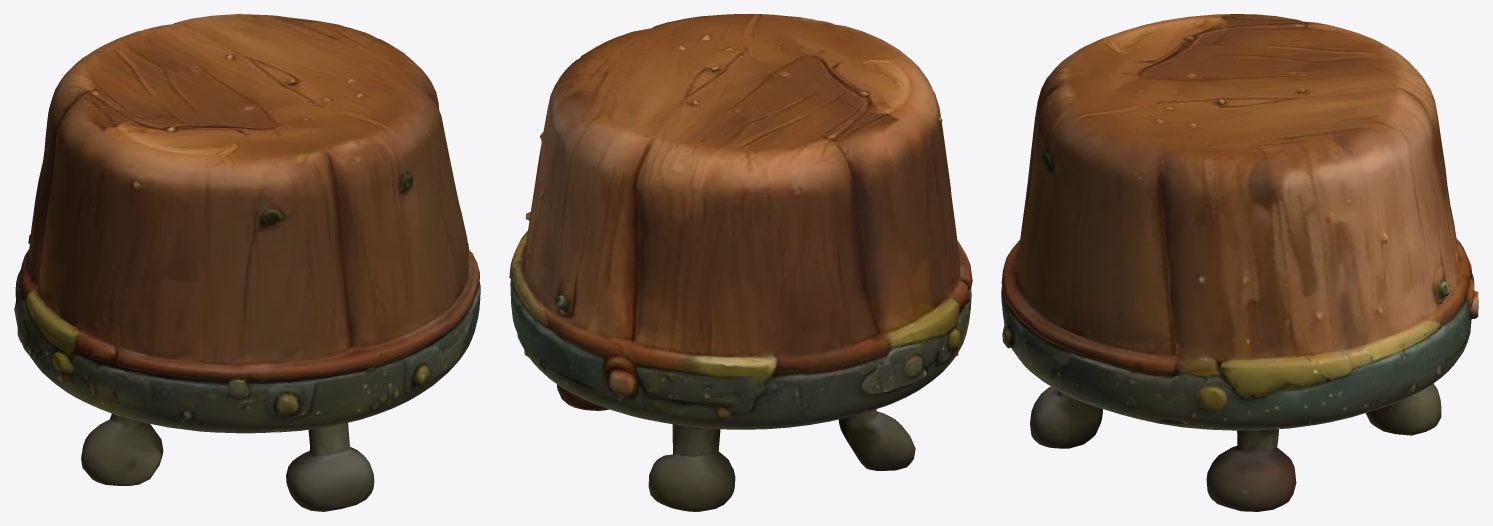
Rendered from deco_stool.glb.
3 views of the same model, side by side, from view 1: azimuth 30°, elevation 25°; view 2: azimuth 150°, elevation 25°; view 3: azimuth 270°, elevation 25° (orthographic).
Parts seen in each view (by area): view 1: tripo_node_3c6aa774-e39f-4e48-8d7c-c176659defc7; view 2: tripo_node_3c6aa774-e39f-4e48-8d7c-c176659defc7; view 3: tripo_node_3c6aa774-e39f-4e48-8d7c-c176659defc7.
Boxes of the visible parts, x1,y1,x2,y2 form: tripo_node_3c6aa774-e39f-4e48-8d7c-c176659defc7: (14, 14, 480, 511); tripo_node_3c6aa774-e39f-4e48-8d7c-c176659defc7: (509, 14, 972, 511); tripo_node_3c6aa774-e39f-4e48-8d7c-c176659defc7: (1001, 14, 1478, 511).
Bounding box in the file's own units: 0.9976 × 0.829 × 0.9998.
Materials: 1 (1 with a texture image).
